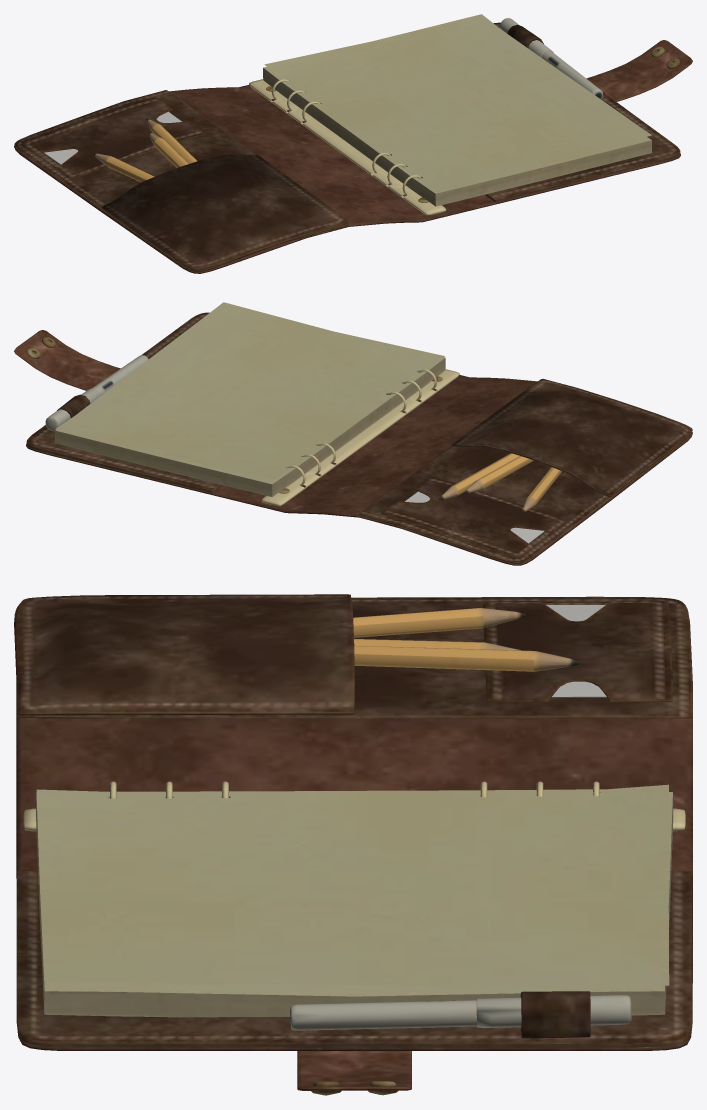
File: journal.glb
The picture shows the model from 3 angles, top to bottom: view 1: azimuth 30°, elevation 25°; view 2: azimuth 150°, elevation 25°; view 3: azimuth 270°, elevation 25°; orthographic projection. The views are drawn at different scales.
Parts seen in each view (by area): view 1: binder_notebook; view 2: binder_notebook; view 3: binder_notebook.
Part boxes in pixels (x1,y1,x2,y2): binder_notebook: [14, 14, 692, 273]; binder_notebook: [14, 302, 692, 565]; binder_notebook: [14, 594, 692, 1095].
Size of the model in its own units: 0.3652 by 0.0178 by 0.2.
Materials: 1 (1 with a texture image).
